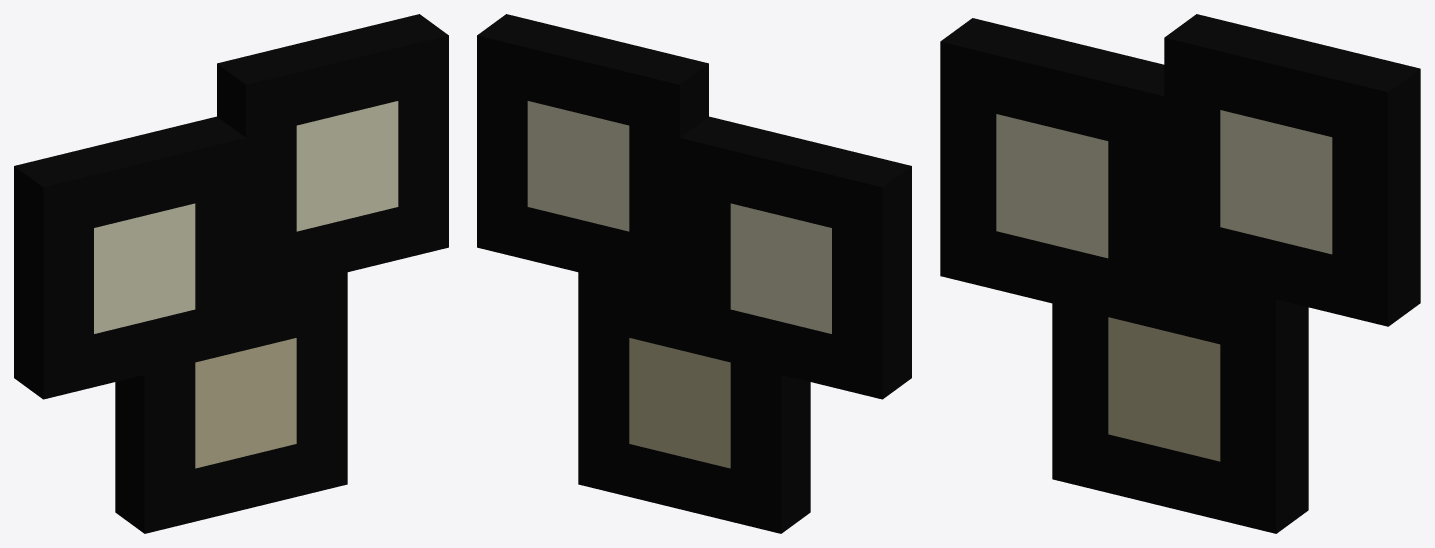
Rendered from Pumpkin Seeds.glb.
The picture shows the model from 3 angles, left to right: view 1: azimuth 30°, elevation 25°; view 2: azimuth 150°, elevation 25°; view 3: azimuth 330°, elevation 25°; orthographic projection. The views are drawn at different scales.
Visible parts, largest first — view 1: generated(Clone); view 2: generated(Clone); view 3: generated(Clone).
Boxes of the visible parts, x1=… form: generated(Clone): x1=14, y1=14, x2=448, y2=533; generated(Clone): x1=477, y1=14, x2=911, y2=533; generated(Clone): x1=940, y1=14, x2=1420, y2=533.
Size of the model in its own units: 8 by 8 by 1.
1 material, 1 textured.
